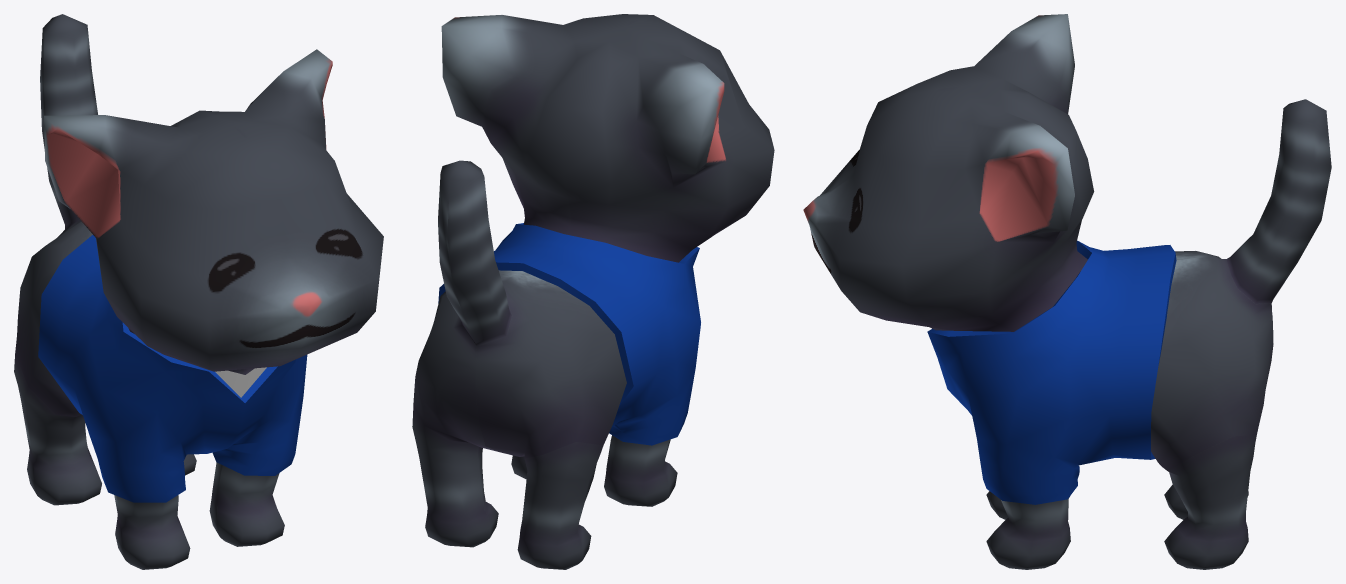
File: Nurse Cat04.fbx
The picture shows the model from 3 angles, left to right: view 1: azimuth 30°, elevation 25°; view 2: azimuth 150°, elevation 25°; view 3: azimuth 270°, elevation 25°; orthographic projection. The views are drawn at different scales.
Visible parts, largest first — view 1: Cat_Base003, Nurse_Cat_Scrubs; view 2: Cat_Base003, Nurse_Cat_Scrubs; view 3: Cat_Base003, Nurse_Cat_Scrubs.
Boxes of the visible parts, left/top/right/bottom form: Cat_Base003: left=14, top=14, right=383, bottom=569; Nurse_Cat_Scrubs: left=38, top=235, right=307, bottom=502; Cat_Base003: left=412, top=14, right=774, bottom=569; Nurse_Cat_Scrubs: left=438, top=223, right=700, bottom=445; Cat_Base003: left=803, top=14, right=1331, bottom=569; Nurse_Cat_Scrubs: left=927, top=240, right=1176, bottom=504.
Size of the model in its own units: 1.75 by 2.83 by 2.68.
Materials: 3 (1 with a texture image).
